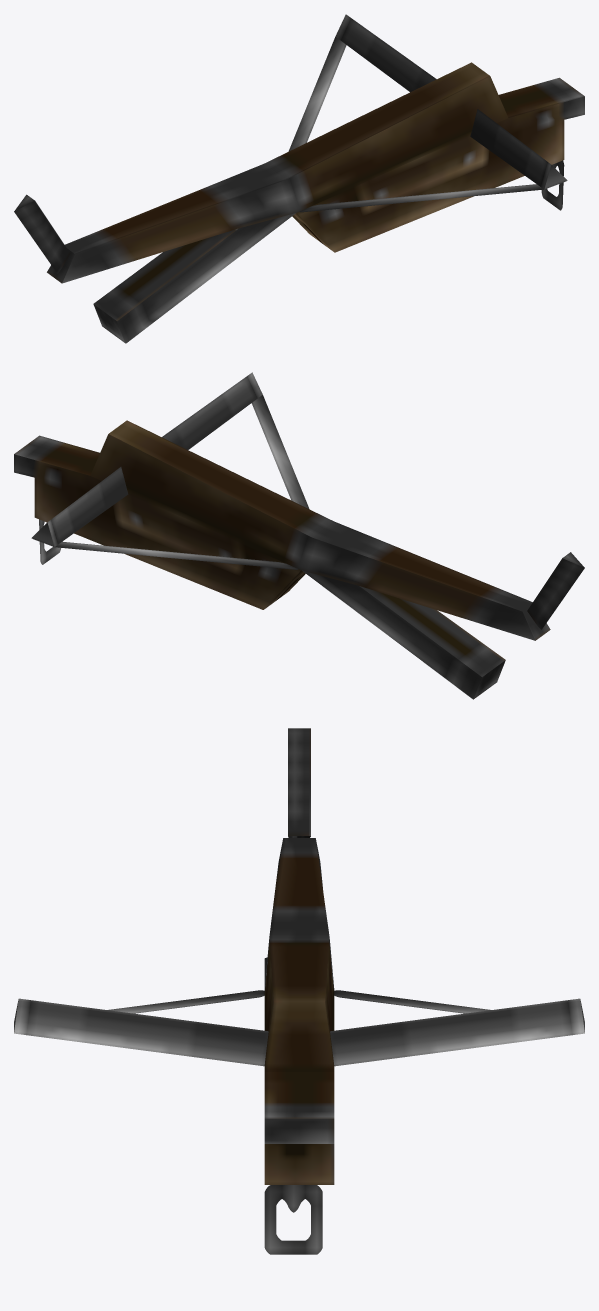
The model's file is 57.WEP_posed.obj.
The picture shows the model from 3 angles, top to bottom: view 1: azimuth 30°, elevation 25°; view 2: azimuth 150°, elevation 25°; view 3: azimuth 270°, elevation 25°; orthographic projection. The views are drawn at different scales.
Size of the model in its own units: 190 by 59 by 123.
1 material, 1 textured.
